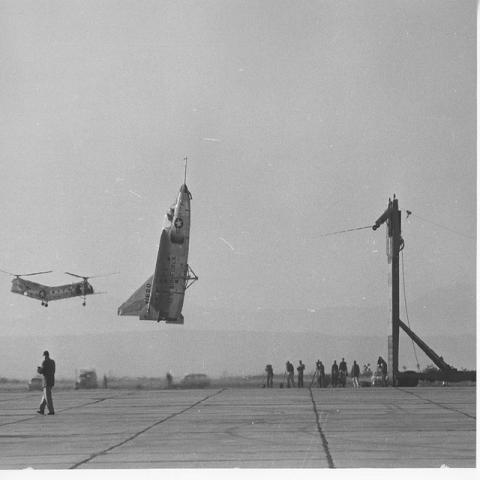truck: (74, 368, 96, 389)
